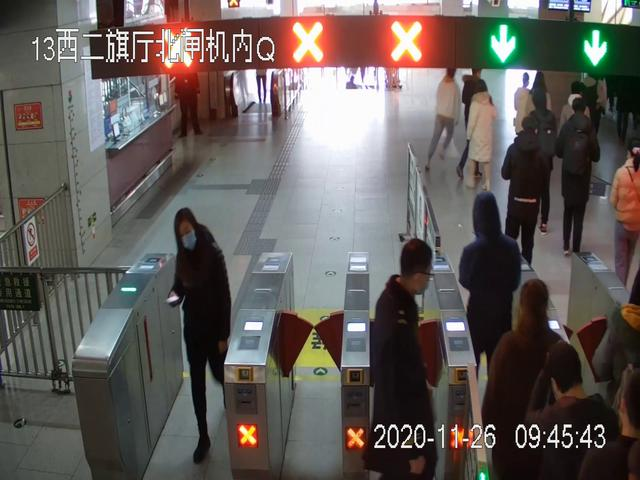person: (164, 209, 233, 462), (460, 191, 522, 469), (485, 281, 570, 480), (371, 239, 435, 480), (555, 100, 600, 257), (502, 115, 544, 268), (425, 68, 462, 180), (464, 85, 495, 191)
